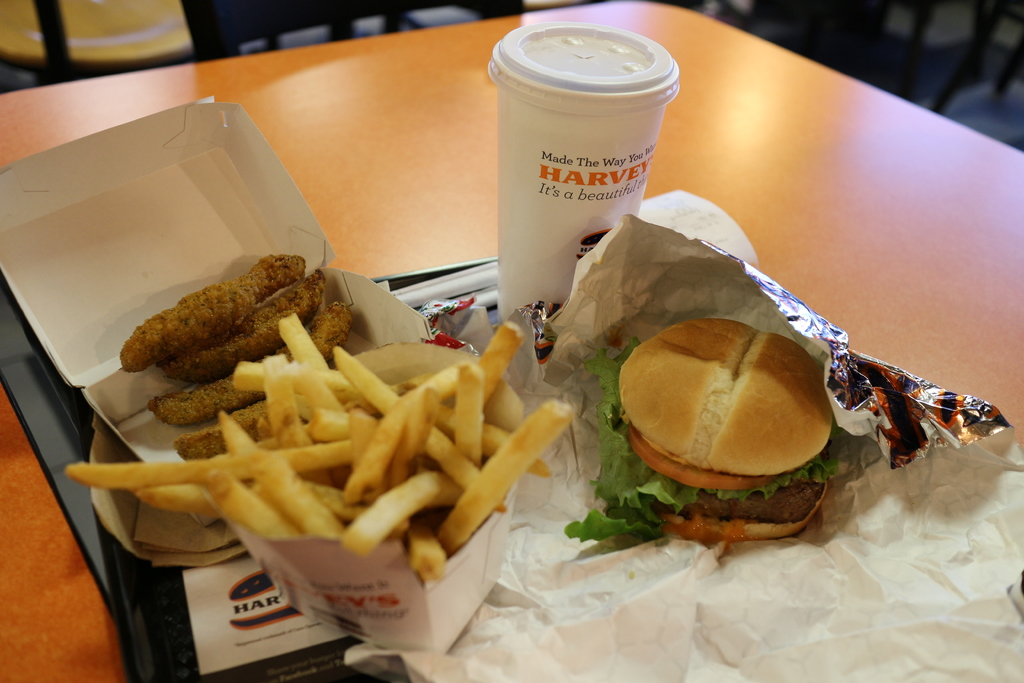French fries: (143, 333, 590, 577)
